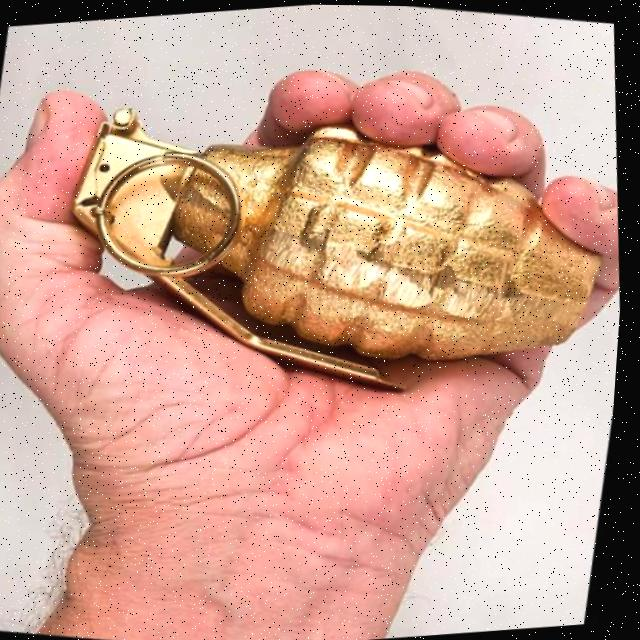grenade: (7, 44, 638, 461)
